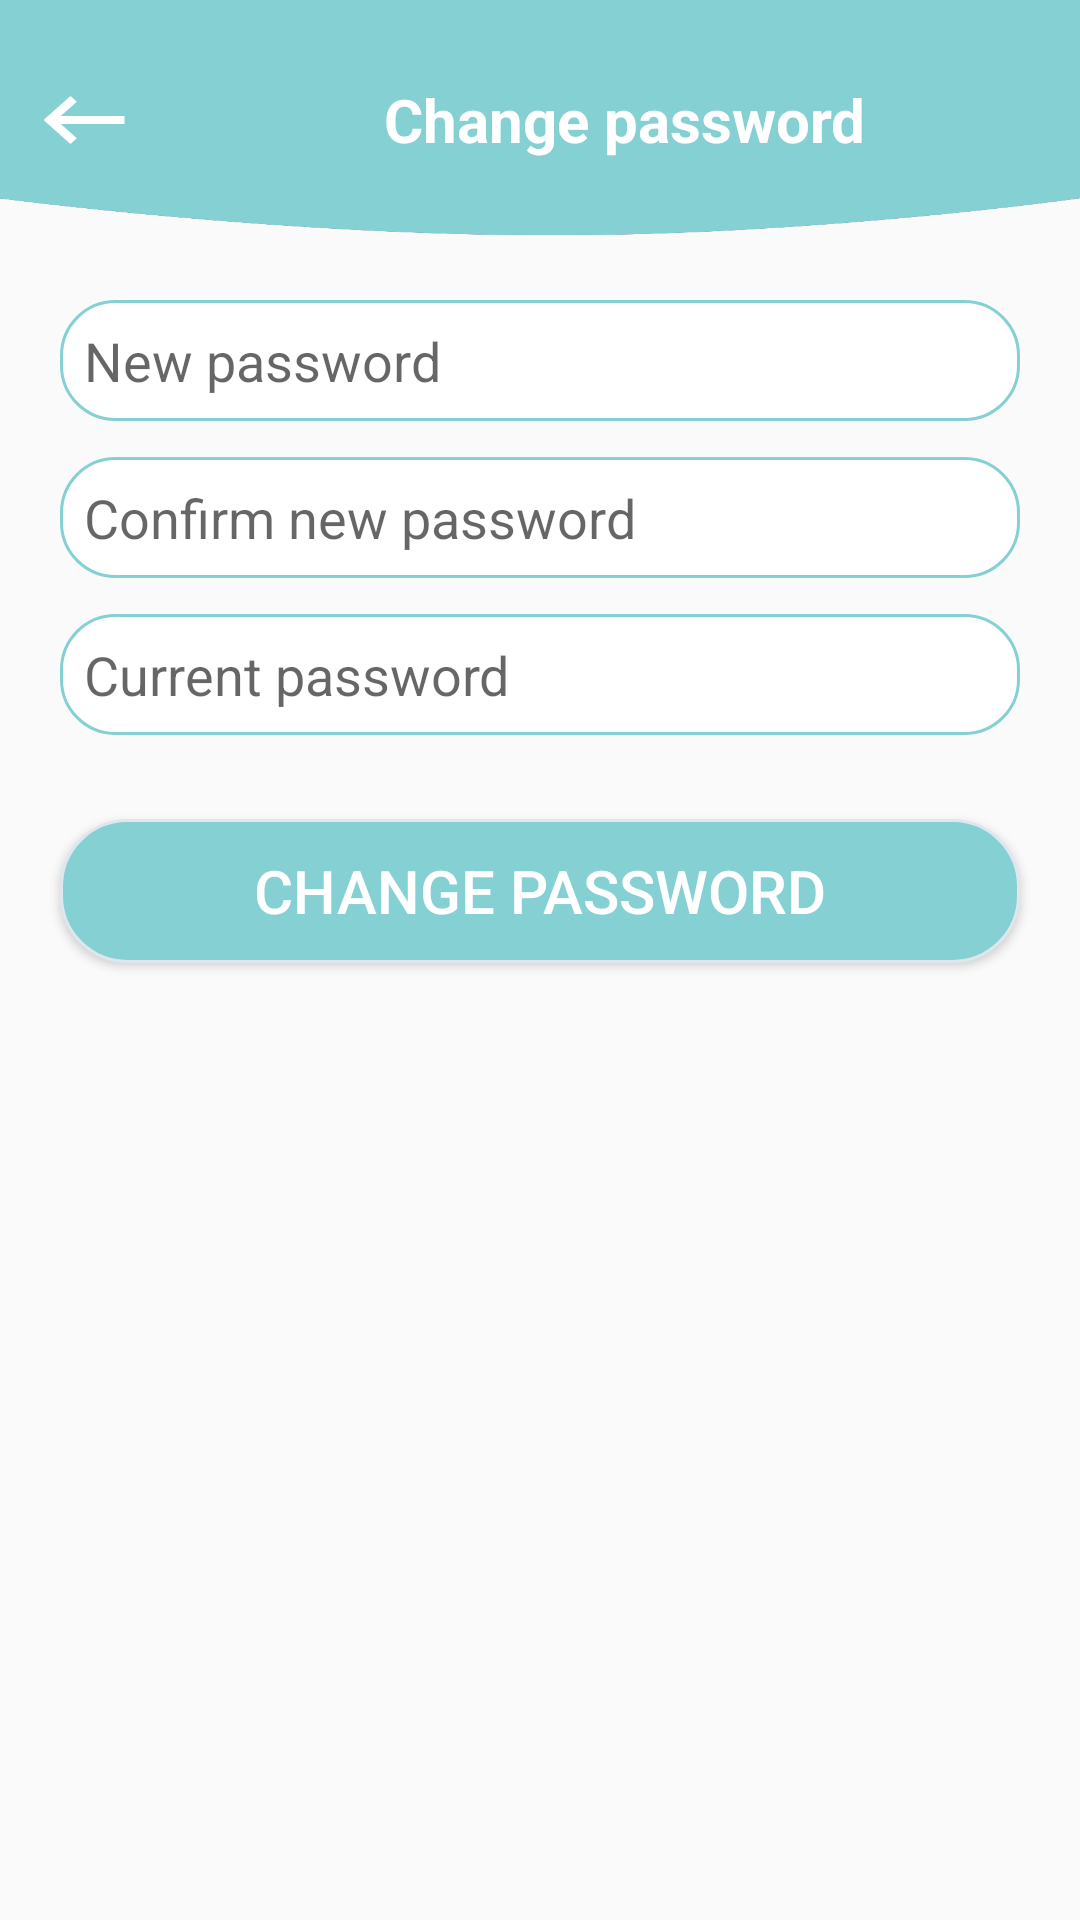

Screen size 1080x1920. Icon name, then its center in pixels as (x=x, y=y):
arrow: (x=84, y=120)
